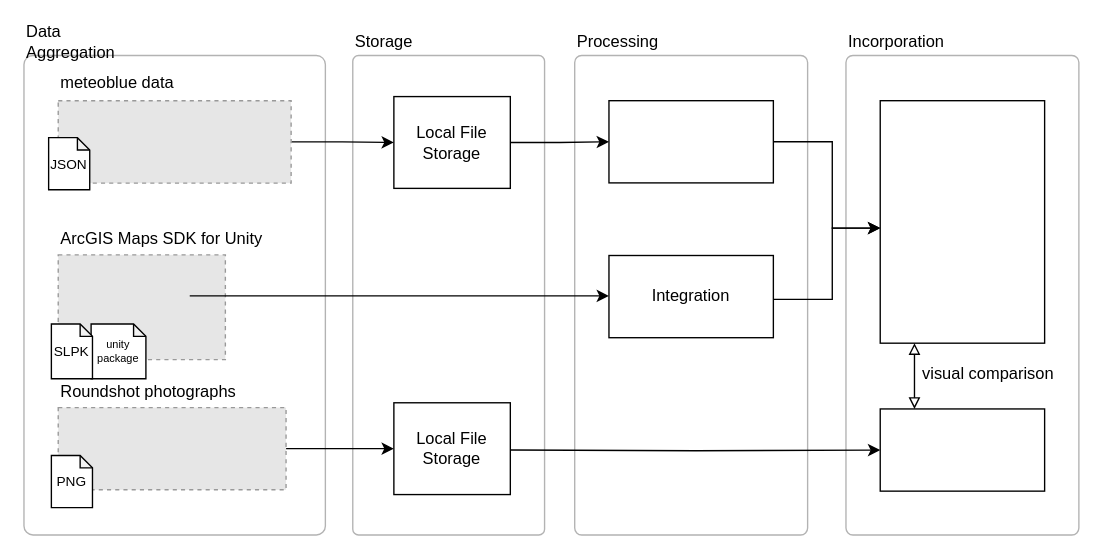
Some shapes in this 1103 by 559 pixel diagram are drawn without their labels. Grey dashed boxes stand in for pictures. The box of each missing label's shape, as (x1, y1, x2, y2) in pixels:
Convert to Readable Format: (608, 99, 773, 183)
Side-by-side View: (879, 408, 1045, 491)
Weather Rendering System: (879, 99, 1045, 343)
